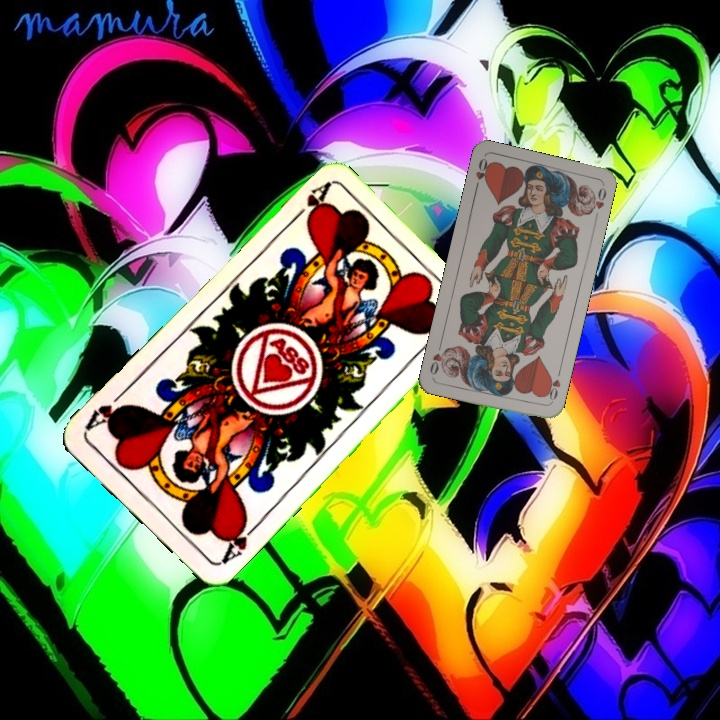HA: (216, 514, 262, 567), (285, 180, 333, 227)
HO: (471, 154, 493, 194), (542, 366, 563, 406)
